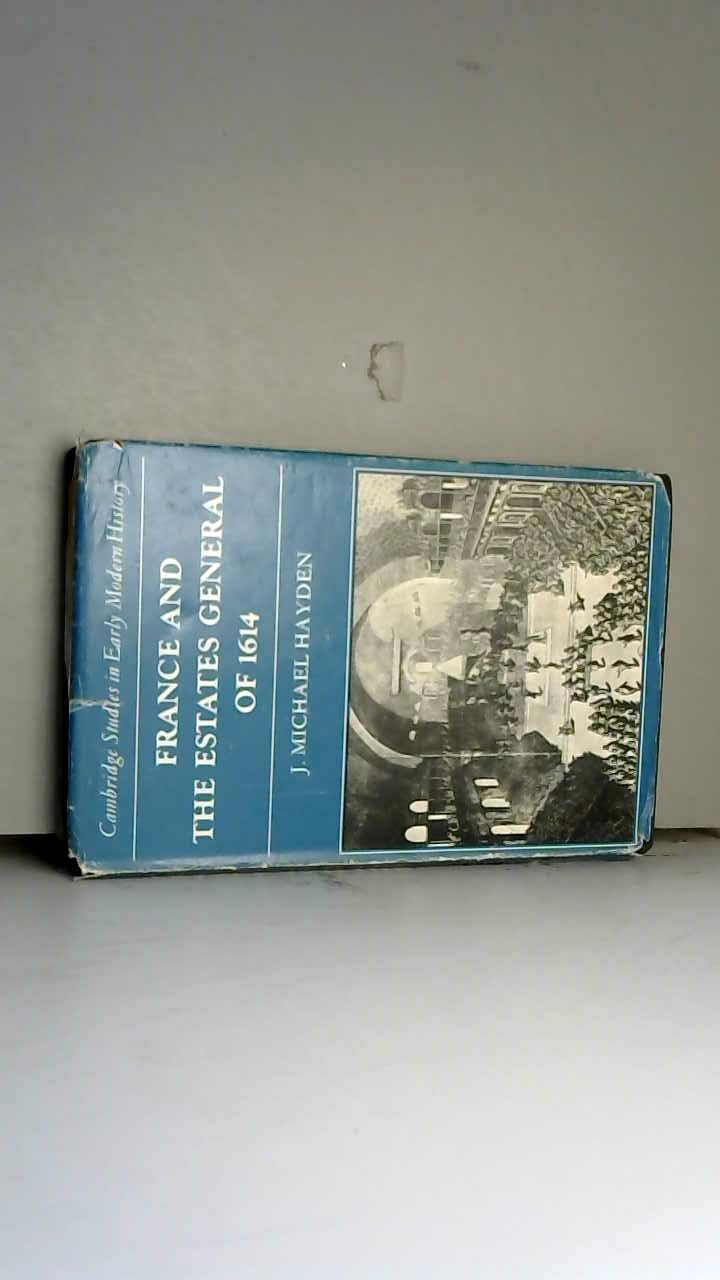book: (31, 416, 694, 903)
